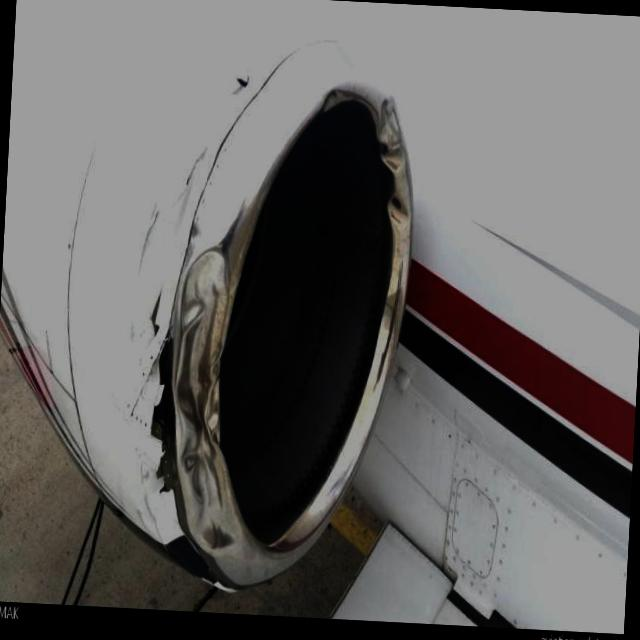dent: (172, 250, 230, 442), (177, 451, 225, 514), (378, 99, 407, 177), (202, 520, 236, 549), (388, 194, 413, 226)
